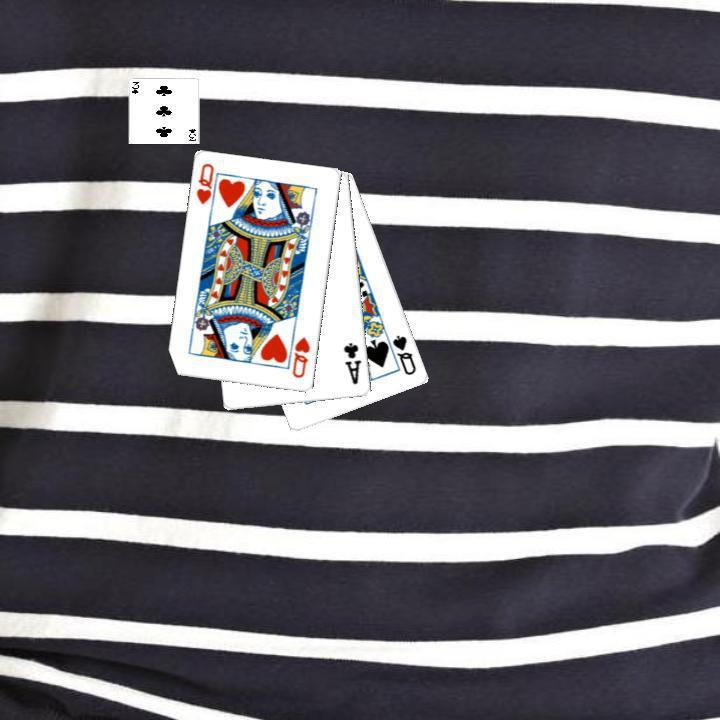A: (340, 339, 364, 386)
Q: (192, 159, 221, 213), (388, 331, 418, 377), (288, 333, 312, 380)
